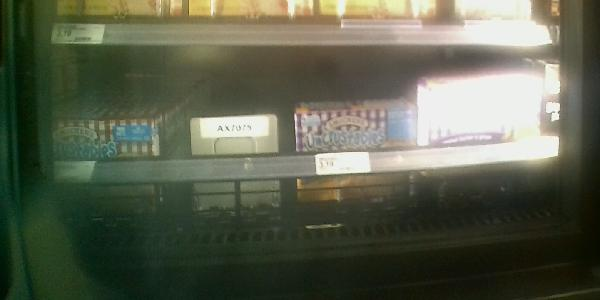icecream: (419, 69, 559, 162), (52, 80, 179, 172), (295, 99, 422, 149)
